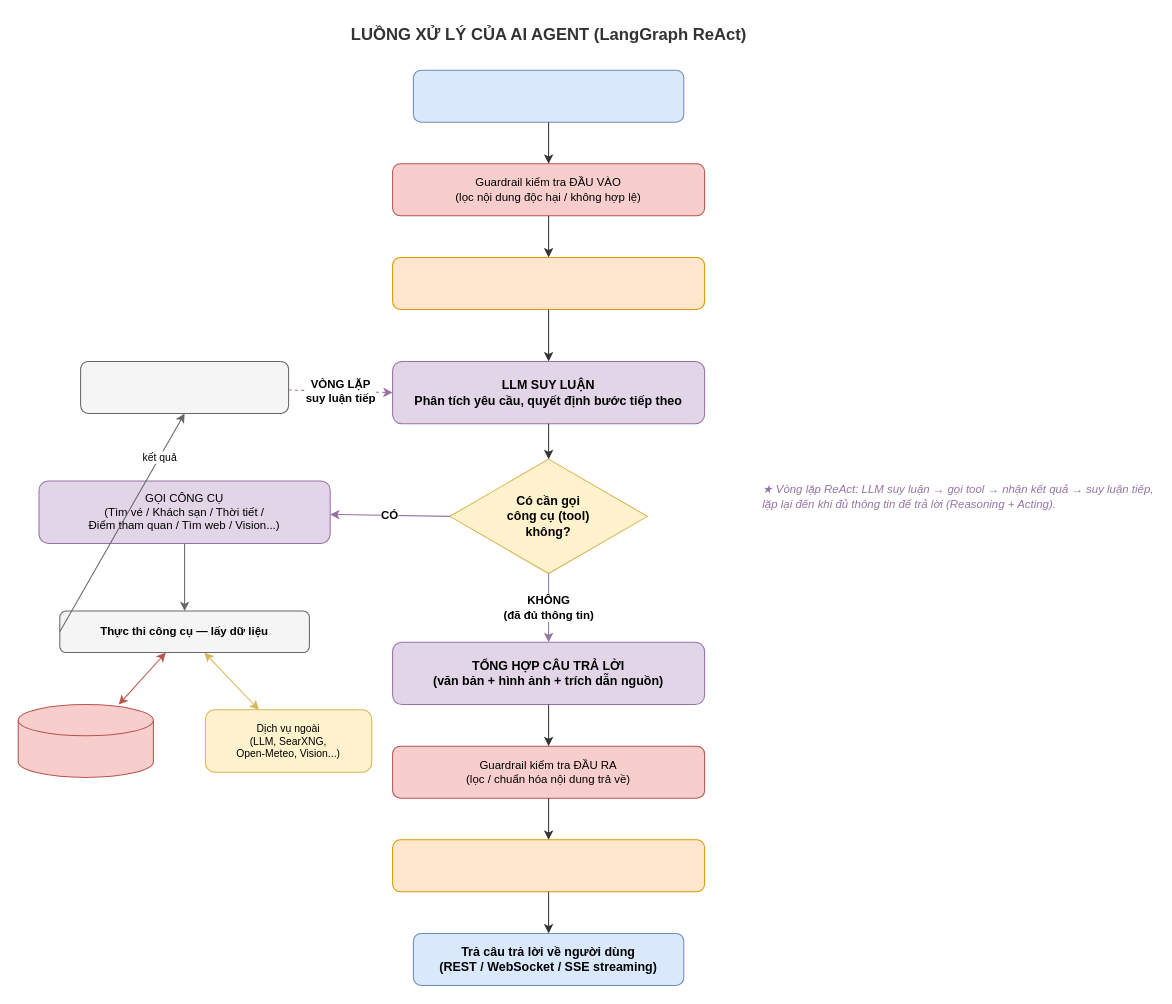
This 1172x1004 diagram has some shape labels left out. Each missing label, with the centre of its shape:
Lưu lượt hội thoại vào Redis (cập nhật ngữ cảnh phiên): the point at 548,865
Người dùng gửi câu hỏi (văn bản / ảnh): the point at 548,95
Nạp lịch sử hội thoại theo session_id (Redis — bộ nhớ ngữ cảnh): the point at 548,282
PostgreSQL (dữ liệu nội bộ): the point at 85,740
Đưa kết quả công cụ về cho LLM: the point at 184,386
